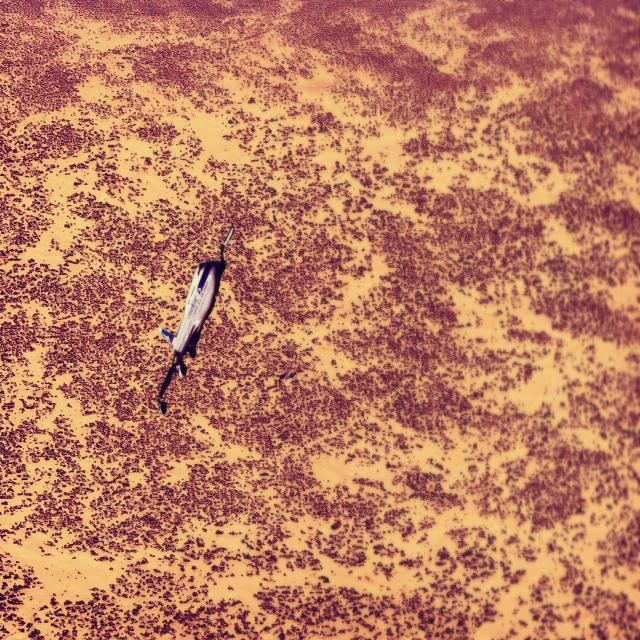airplane: (156, 223, 234, 414)
